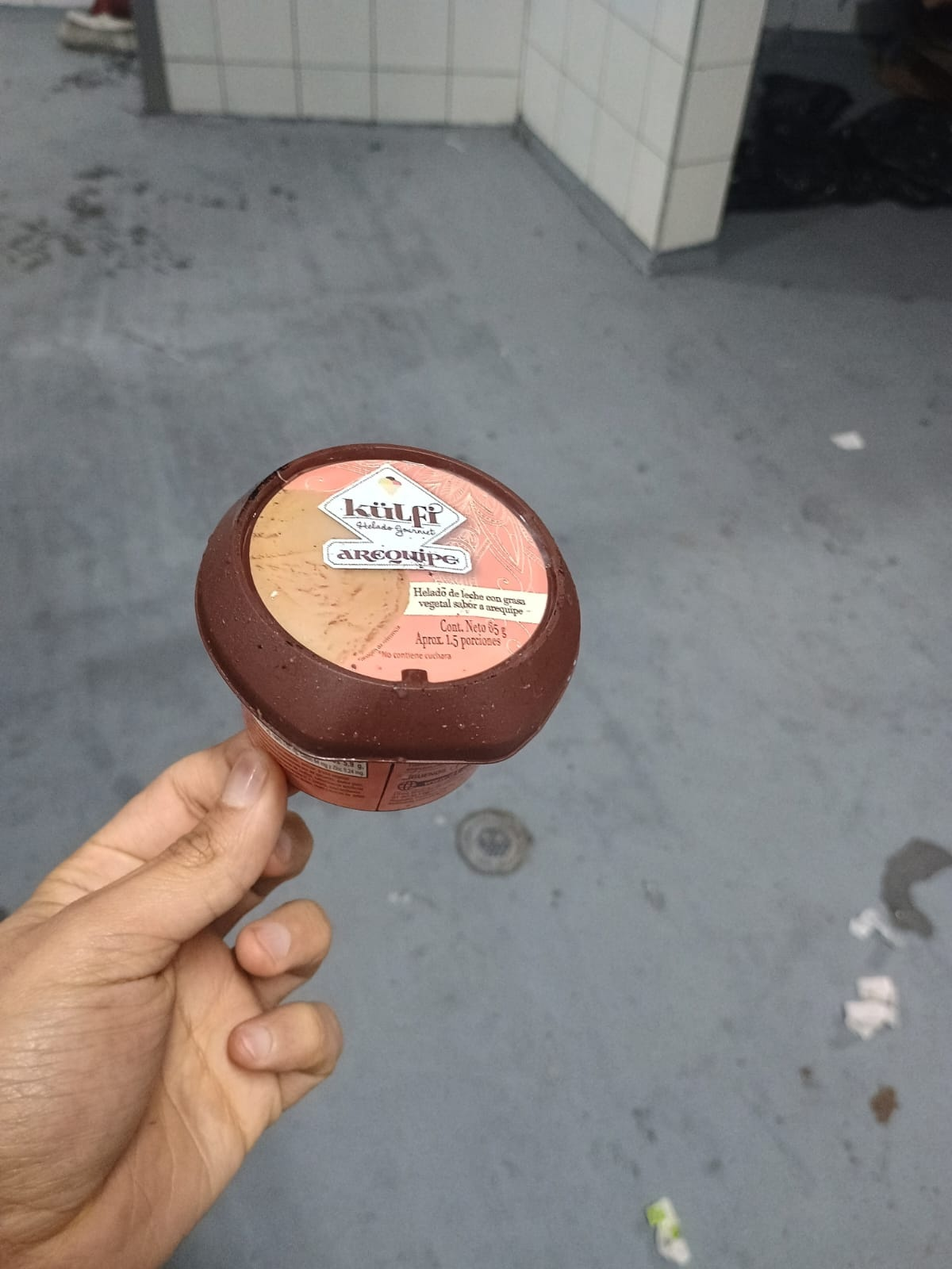Ordinario: (191, 444, 586, 816)
